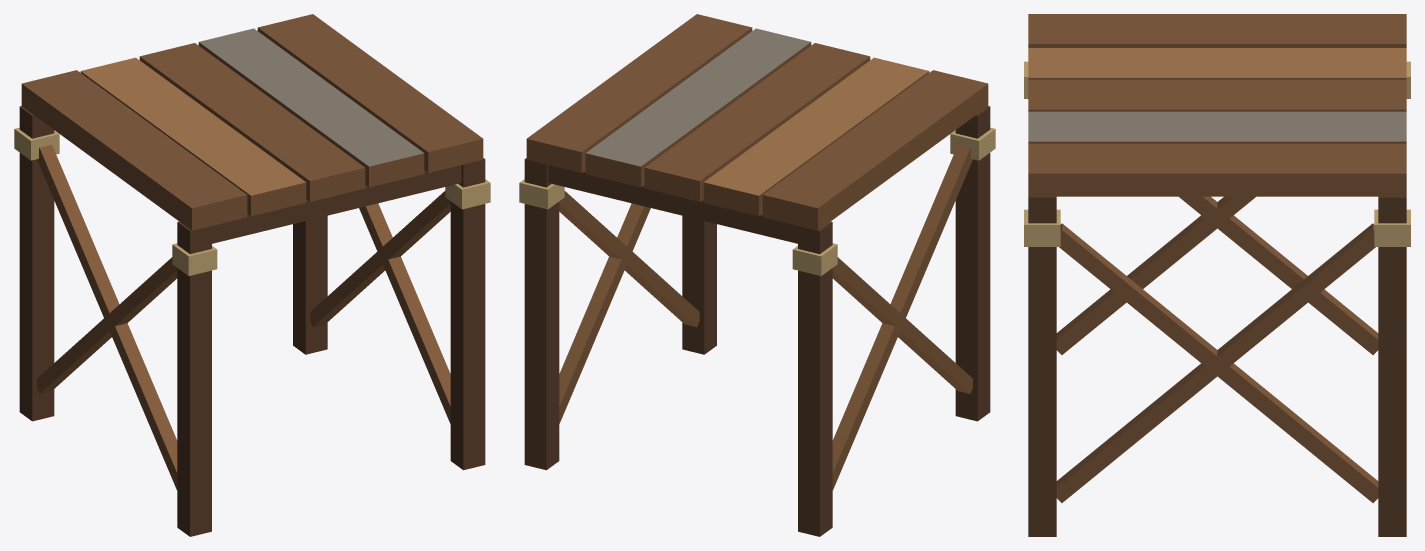
Rendered from kit_scaffold_wood.glb.
3 renders of one model, left to right at view 1: azimuth 30°, elevation 25°; view 2: azimuth 150°, elevation 25°; view 3: azimuth 270°, elevation 25°, orthographic. The views are drawn at different scales.
Visible parts, largest first — view 1: kit_scaffold_wood; view 2: kit_scaffold_wood; view 3: kit_scaffold_wood.
Part boxes in pixels (x1,y1,x2,y2): kit_scaffold_wood: (14,14,490,536); kit_scaffold_wood: (519,14,995,536); kit_scaffold_wood: (1024,14,1410,536).
Size of the model in its own units: 0.961 by 0.9983 by 0.961.
Materials: 1 (1 with a texture image).
